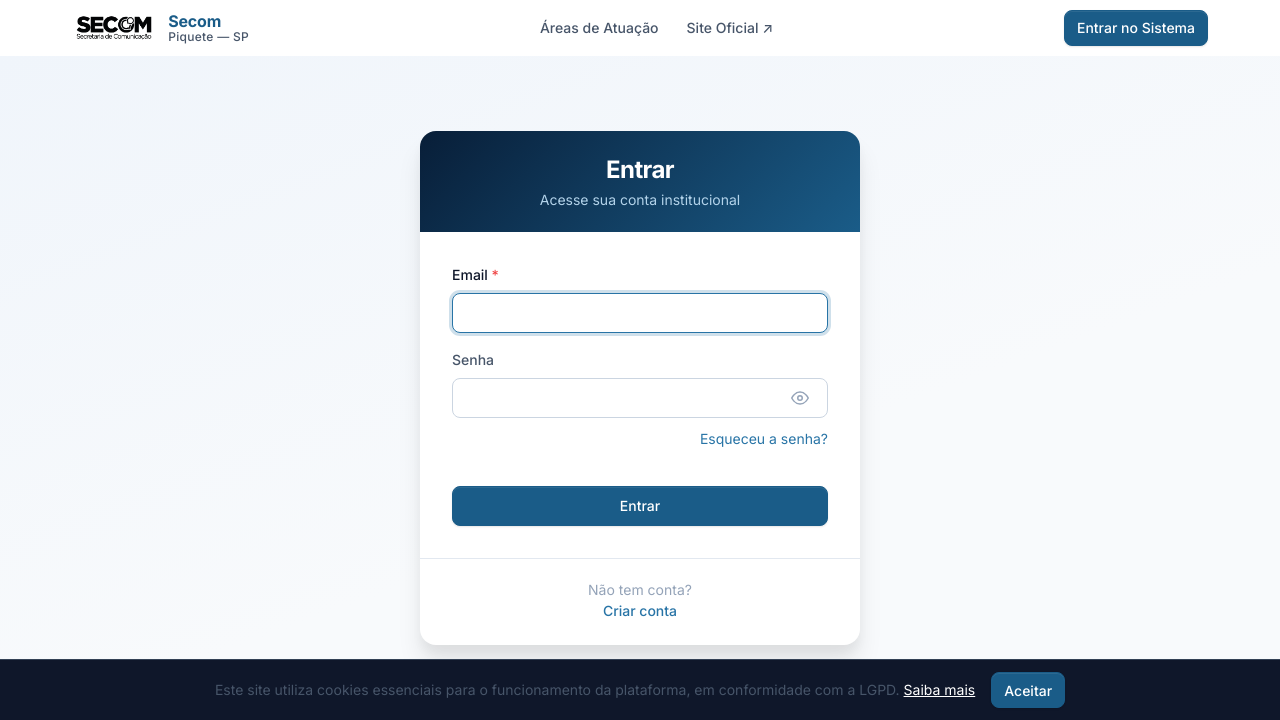
Scenario: PressReleases — List › shows empty state when list is empty
Type "admin@secom.gov.br" into the field labelled "Email *". click: (640, 313)
box: [452,293,828,333]
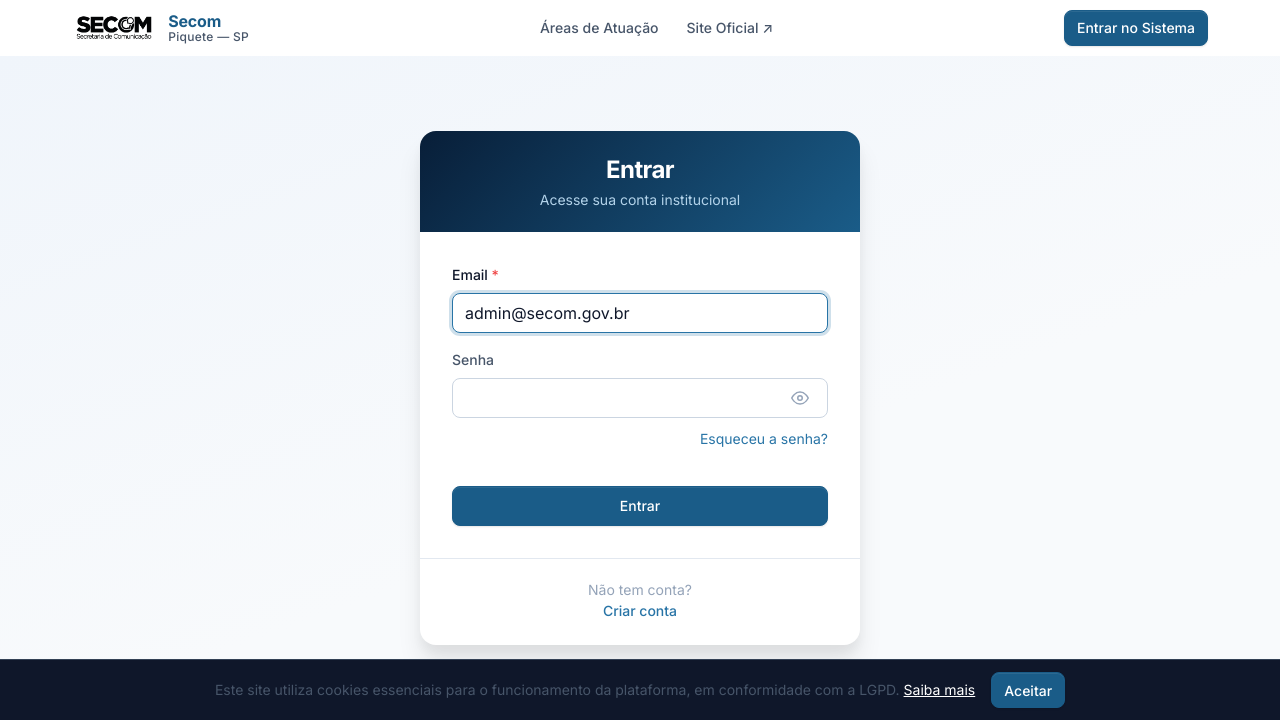
Type "AdminPassword123!" into the password field labelled "Senha". click: (640, 398)
box: [452,378,828,418]
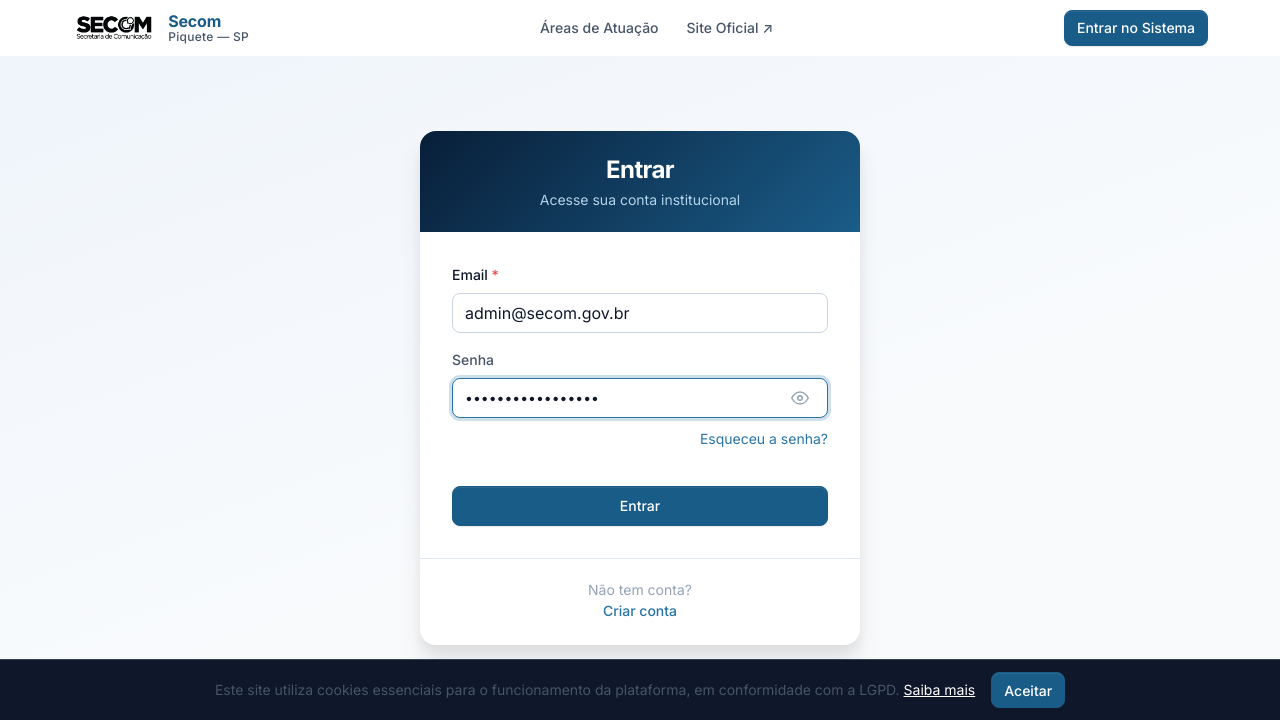
Click the submit button. click: (640, 506)
box: [452,486,828,526]
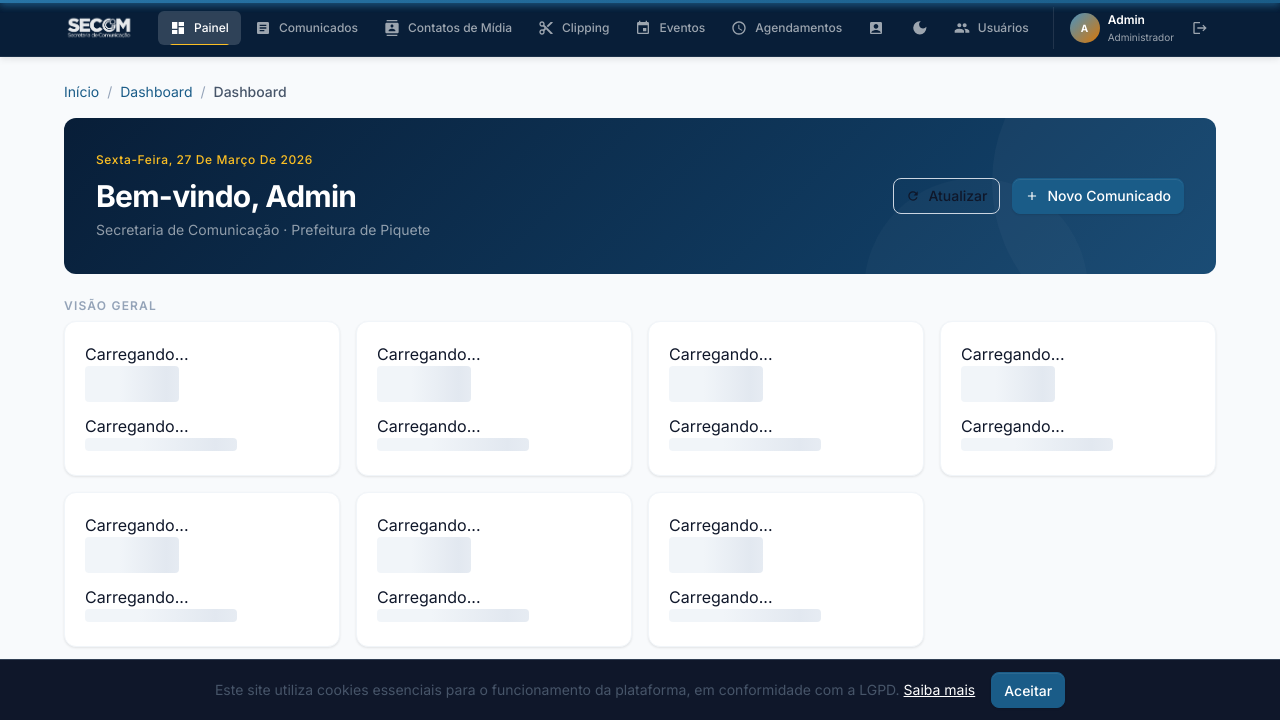
Open "/press-releases"
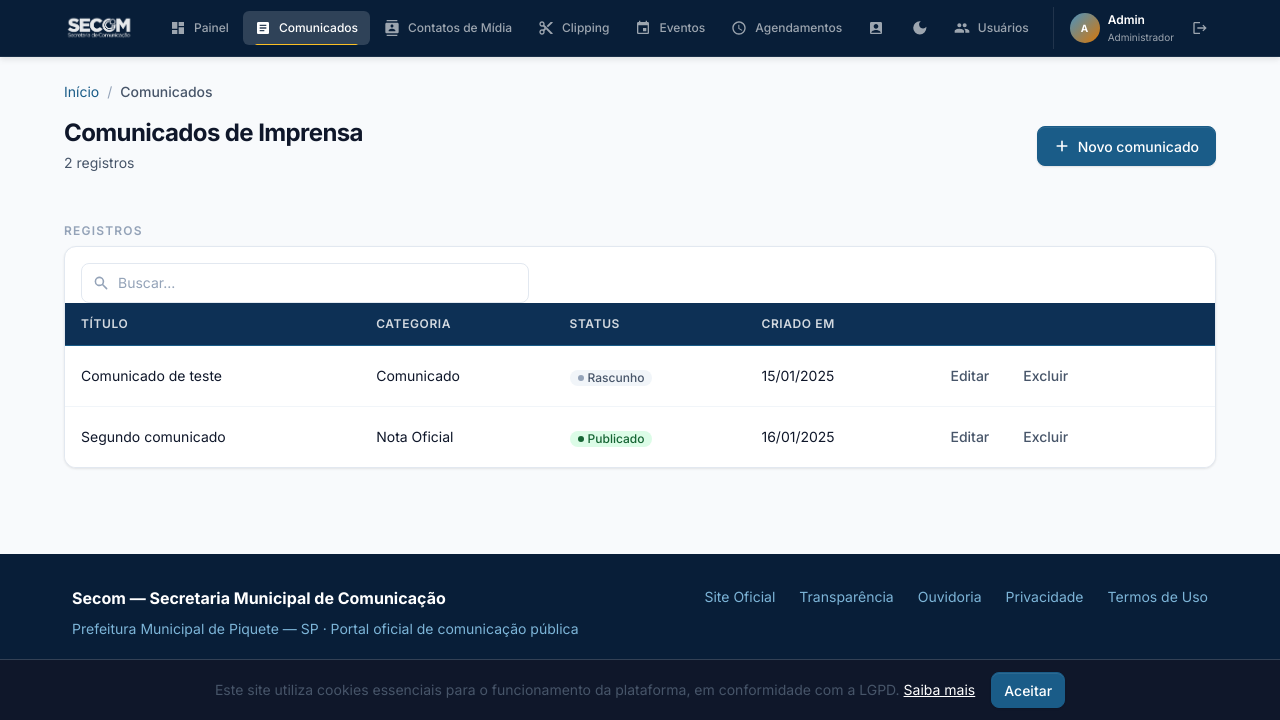
Open "/press-releases"
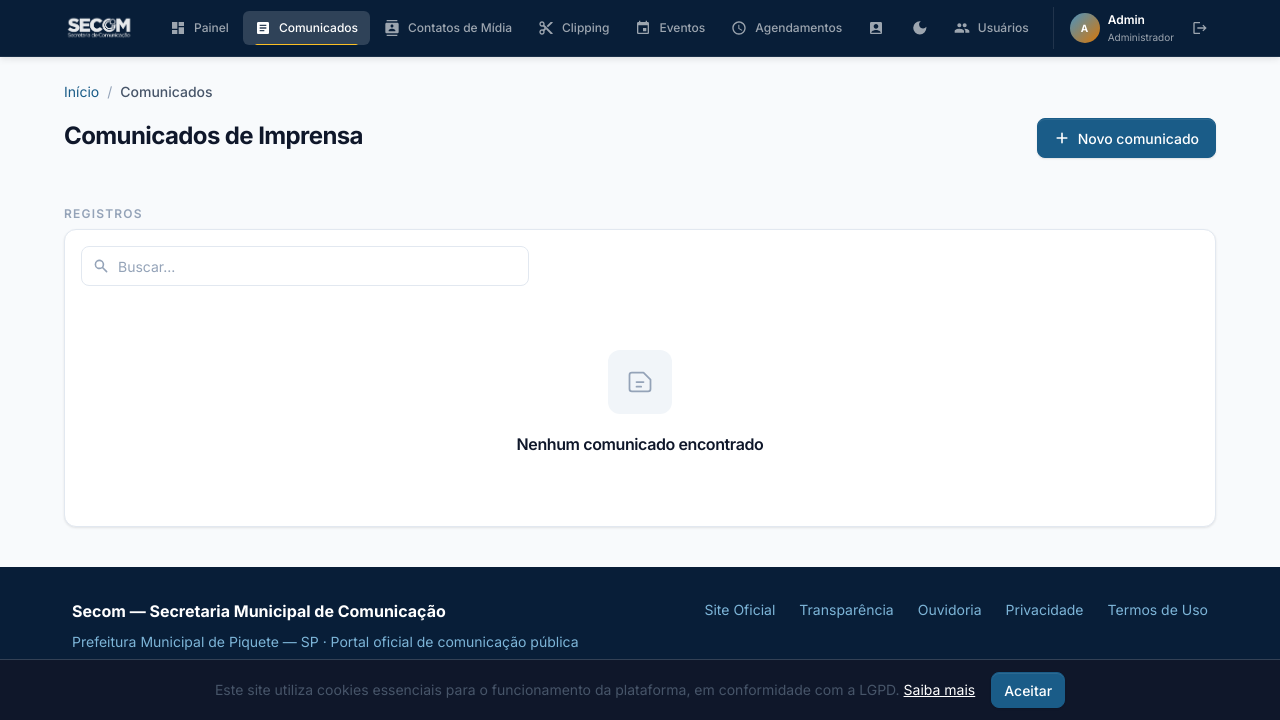
Now the heading "Nenhum comunicado encontrado" is shown, box [517,434,763,454]
